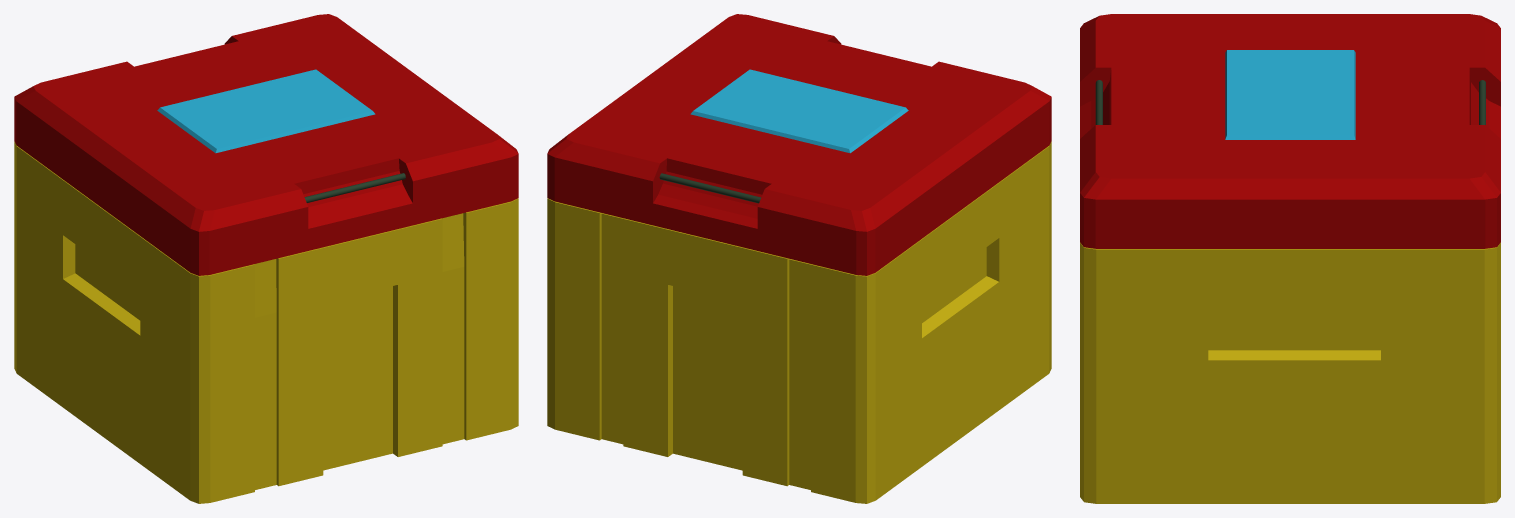
3 views of the same model, side by side, from view 1: azimuth 30°, elevation 25°; view 2: azimuth 150°, elevation 25°; view 3: azimuth 270°, elevation 25° (orthographic). The views are drawn at different scales.
Parts seen in each view (by area): view 1: Box264, Box265, Box266, Cylinder014; view 2: Box264, Box265, Box266, Cylinder015; view 3: Box264, Box265, Box266.
Boxes of the visible parts, x1,y1,x2,y2 form: Box264: (14,141,518,503); Box265: (14,14,518,275); Box266: (157,69,375,153); Cylinder014: (304,173,405,202); Box264: (547,141,1051,503); Box265: (547,14,1051,275); Box266: (690,69,908,153); Cylinder015: (659,173,761,203); Box264: (1080,242,1500,503); Box265: (1080,14,1500,248); Box266: (1225,50,1355,139).
Bounding box in the file's own units: 47.24 × 39.92 × 47.24.
